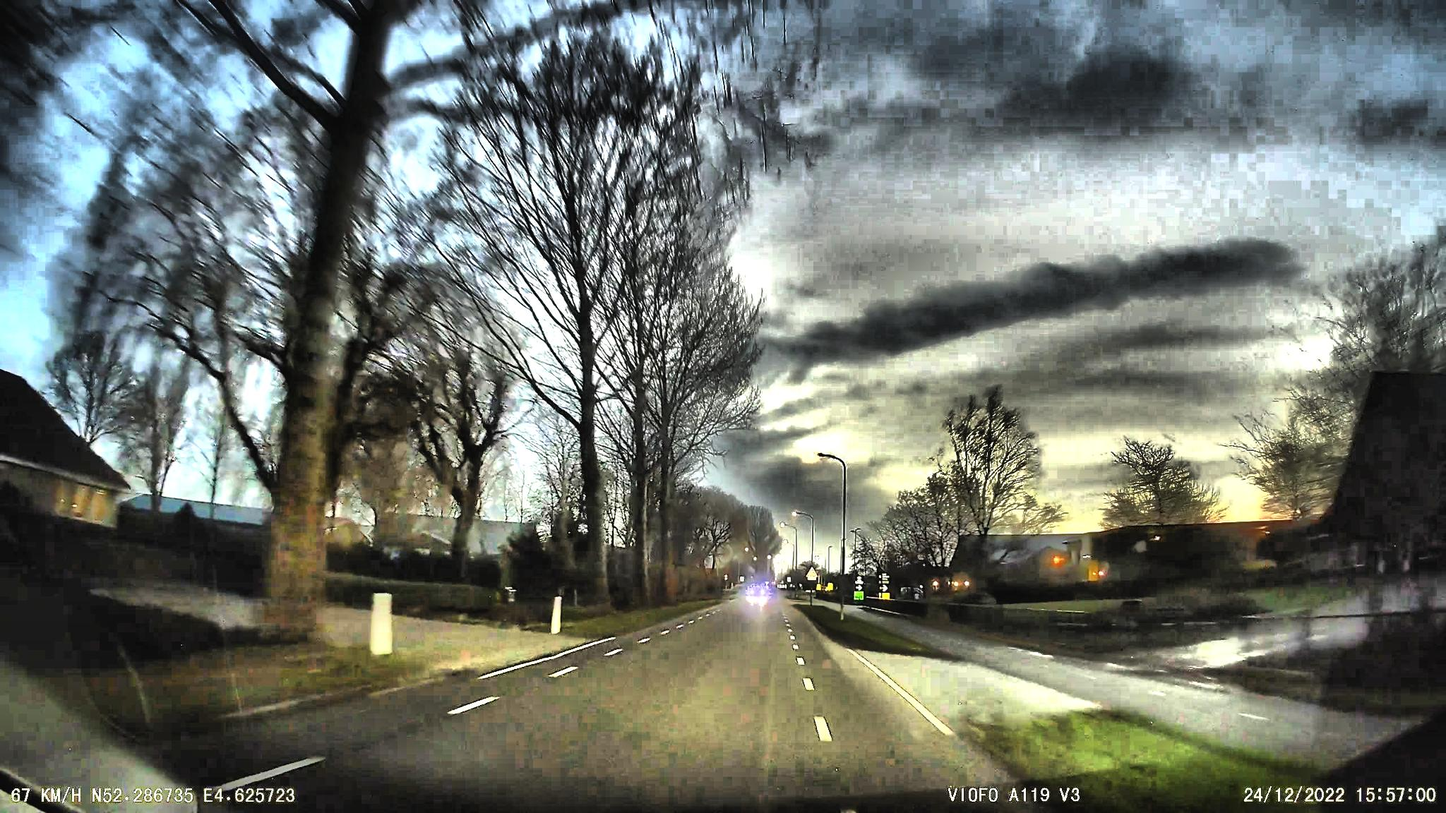Roads: (302, 586, 1096, 813)
